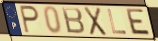0: (43, 5, 64, 36)
B: (60, 7, 86, 36)
E: (125, 8, 152, 37)
L: (106, 8, 128, 36)
P: (19, 5, 41, 35)
X: (83, 6, 108, 37)
